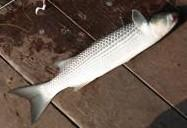fish: (7, 10, 180, 126)
